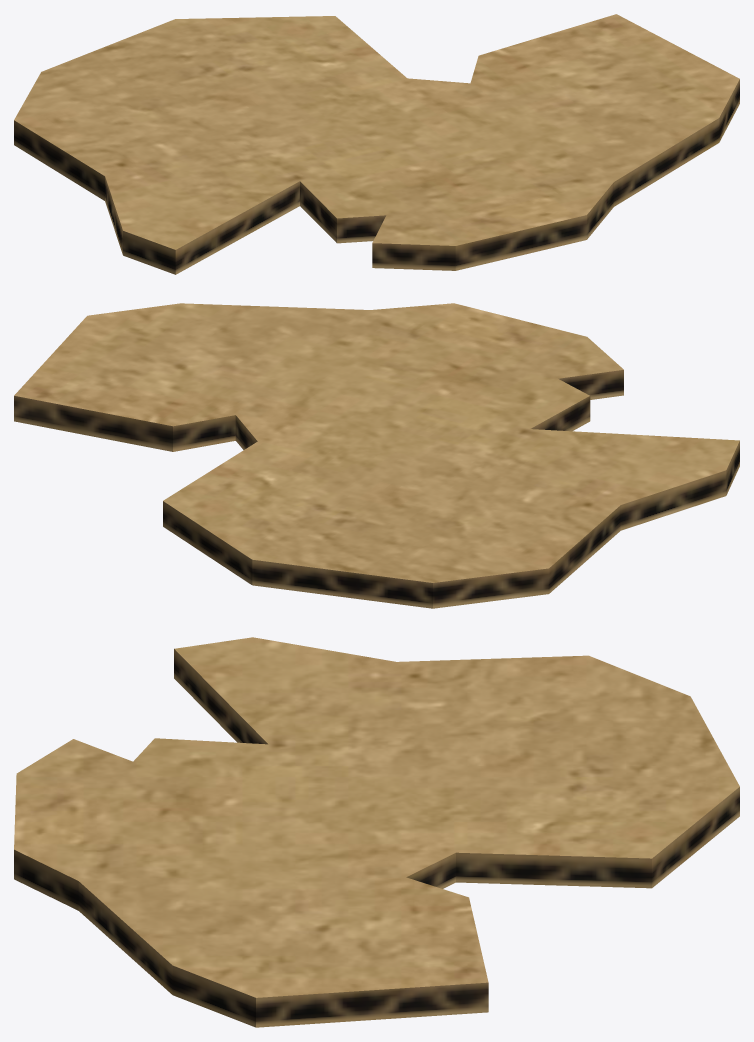
The model's file is SM_CardboardGudBirdIdle.fbx.
The picture shows the model from 3 angles, top to bottom: view 1: azimuth 30°, elevation 25°; view 2: azimuth 150°, elevation 25°; view 3: azimuth 270°, elevation 25°; orthographic projection. The views are drawn at different scales.
Parts seen in each view (by area): view 1: Mesh_CardboardGudBirdIdle; view 2: Mesh_CardboardGudBirdIdle; view 3: Mesh_CardboardGudBirdIdle.
Boxes of the visible parts, x1,y1,x2,y2 form: Mesh_CardboardGudBirdIdle: (14, 14, 739, 274); Mesh_CardboardGudBirdIdle: (14, 303, 739, 608); Mesh_CardboardGudBirdIdle: (14, 637, 739, 1027).
Bounding box in the file's own units: 63.49 × 2.44 × 54.01.
